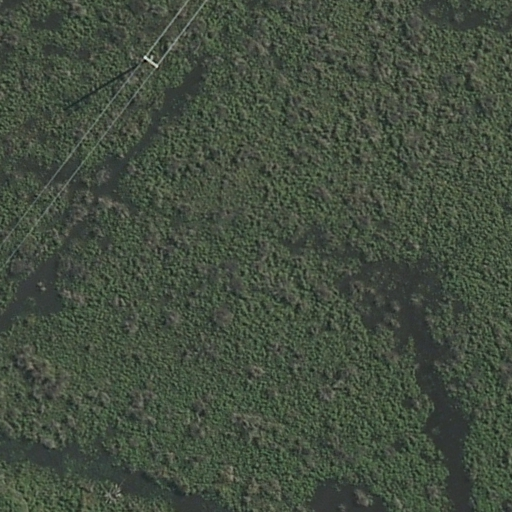DT: (142, 53, 161, 71)
